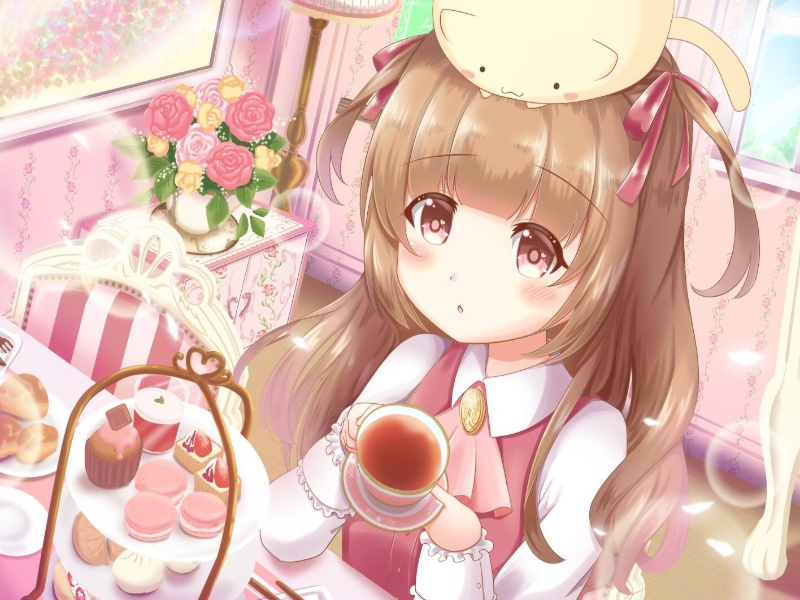person: (379, 153, 598, 346)
